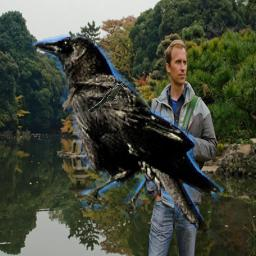Crow: (24, 33, 224, 235)
Cuckoo: (88, 84, 124, 112)
